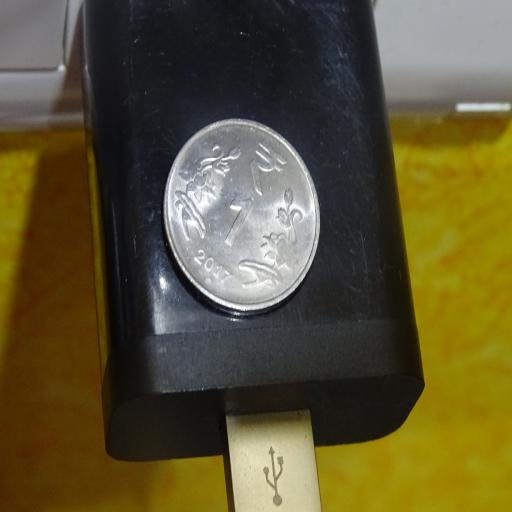rupee1: (162, 120, 318, 311)
